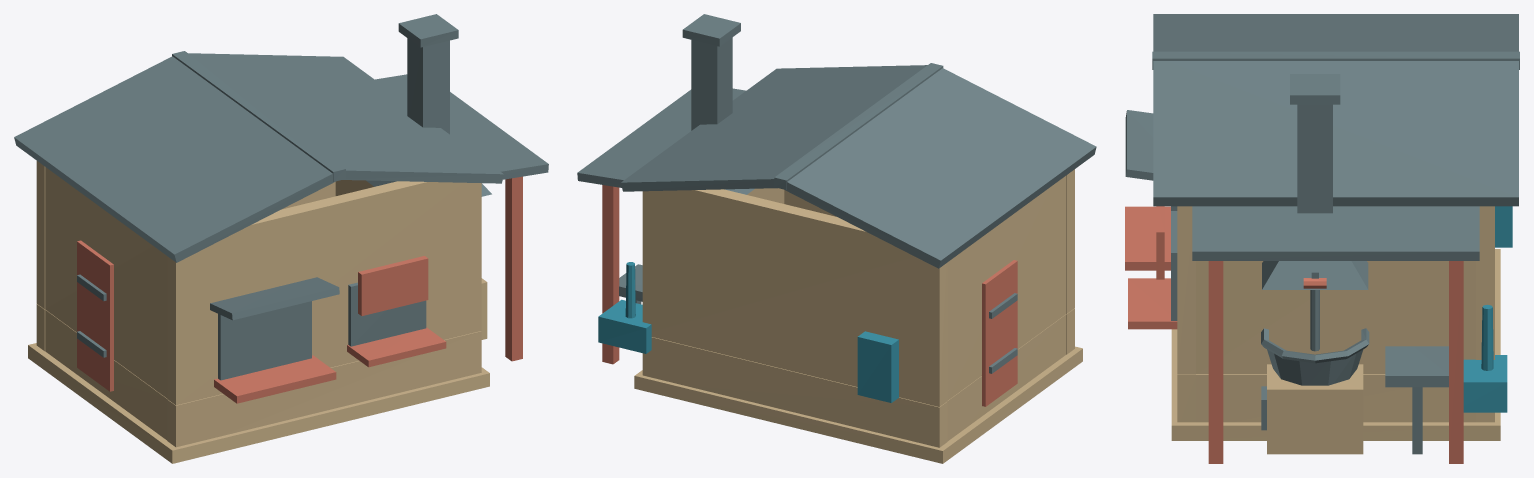
File: preserve-kitchen.source.glb
3 renders of one model, left to right at view 1: azimuth 30°, elevation 25°; view 2: azimuth 150°, elevation 25°; view 3: azimuth 270°, elevation 25°, orthographic. The views are drawn at different scales.
Parts seen in each view (by area): view 1: preserve-kitchen-front-plaster-wall-mesh, preserve-kitchen-left-roof-panel-mesh, preserve-kitchen-right-roof-panel-mesh, preserve-kitchen-left-plaster-wall-mesh, preserve-kitchen-front-stone-plinth-mesh, preserve-kitchen-foundation-slab-mesh, preserve-kitchen-produce-receiving-recess-mesh, preserve-kitchen-timber-service-door-mesh, preserve-kitchen-work-bay-canopy-mesh, preserve-kitchen-left-stone-plinth-mesh, preserve-kitchen-narrow-ventilation-chimney-mesh, preserve-kitchen-work-bay-post-1.15-mesh (+8 smaller); view 2: preserve-kitchen-rear-plaster-wall-mesh, preserve-kitchen-left-roof-panel-mesh, preserve-kitchen-right-roof-panel-mesh, preserve-kitchen-left-plaster-wall-mesh, preserve-kitchen-rear-stone-plinth-mesh, preserve-kitchen-foundation-slab-mesh, preserve-kitchen-work-bay-canopy-mesh, preserve-kitchen-timber-service-door-mesh, preserve-kitchen-left-stone-plinth-mesh, preserve-kitchen-narrow-ventilation-chimney-mesh, preserve-kitchen-fuel-power-service-box-mesh, preserve-kitchen-work-bay-post--1.15-mesh (+5 smaller); view 3: preserve-kitchen-right-roof-panel-mesh, preserve-kitchen-right-plaster-wall-mesh, preserve-kitchen-work-bay-canopy-mesh, preserve-kitchen-left-roof-panel-mesh, preserve-kitchen-masonry-kettle-stove-mesh, preserve-kitchen-right-stone-plinth-mesh, preserve-kitchen-foundation-slab-mesh, preserve-kitchen-narrow-ventilation-chimney-mesh, preserve-kitchen-roof-ridge-mesh, preserve-kitchen-work-bay-post-1.15-mesh, preserve-kitchen-front-plaster-wall-mesh, preserve-kitchen-work-bay-post--1.15-mesh (+17 smaller).
Part boxes in pixels (x1,y1,x2,y2): preserve-kitchen-front-plaster-wall-mesh: (167, 181, 481, 405); preserve-kitchen-left-roof-panel-mesh: (14, 56, 335, 262); preserve-kitchen-right-roof-panel-mesh: (188, 53, 503, 183); preserve-kitchen-left-plaster-wall-mesh: (45, 167, 167, 398); preserve-kitchen-front-stone-plinth-mesh: (167, 331, 481, 447); preserve-kitchen-foundation-slab-mesh: (28, 343, 489, 463); preserve-kitchen-produce-receiving-recess-mesh: (218, 301, 311, 380); preserve-kitchen-timber-service-door-mesh: (77, 240, 113, 391); preserve-kitchen-work-bay-canopy-mesh: (375, 74, 548, 179); preserve-kitchen-left-stone-plinth-mesh: (45, 310, 167, 440); preserve-kitchen-narrow-ventilation-chimney-mesh: (407, 38, 449, 134); preserve-kitchen-work-bay-post-1.15-mesh: (505, 176, 522, 361); preserve-kitchen-rear-plaster-wall-mesh: (642, 189, 947, 406); preserve-kitchen-left-roof-panel-mesh: (784, 68, 1096, 268); preserve-kitchen-right-roof-panel-mesh: (621, 65, 927, 191); preserve-kitchen-left-plaster-wall-mesh: (947, 176, 1066, 400); preserve-kitchen-rear-stone-plinth-mesh: (642, 337, 947, 447); preserve-kitchen-foundation-slab-mesh: (634, 346, 1082, 463); preserve-kitchen-work-bay-canopy-mesh: (577, 88, 745, 187); preserve-kitchen-timber-service-door-mesh: (982, 260, 1017, 406); preserve-kitchen-left-stone-plinth-mesh: (947, 314, 1066, 440); preserve-kitchen-narrow-ventilation-chimney-mesh: (691, 37, 732, 130); preserve-kitchen-fuel-power-service-box-mesh: (857, 331, 898, 402); preserve-kitchen-work-bay-post--1.15-mesh: (602, 185, 619, 364); preserve-kitchen-right-roof-panel-mesh: (1153, 61, 1518, 206); preserve-kitchen-right-plaster-wall-mesh: (1196, 261, 1475, 374); preserve-kitchen-work-bay-canopy-mesh: (1192, 206, 1479, 260); preserve-kitchen-left-roof-panel-mesh: (1153, 14, 1518, 51); preserve-kitchen-masonry-kettle-stove-mesh: (1267, 364, 1363, 454); preserve-kitchen-right-stone-plinth-mesh: (1196, 374, 1475, 422); preserve-kitchen-foundation-slab-mesh: (1171, 249, 1500, 440); preserve-kitchen-narrow-ventilation-chimney-mesh: (1297, 104, 1332, 213); preserve-kitchen-roof-ridge-mesh: (1152, 51, 1519, 69); preserve-kitchen-work-bay-post-1.15-mesh: (1208, 261, 1223, 463); preserve-kitchen-front-plaster-wall-mesh: (1177, 206, 1195, 374); preserve-kitchen-work-bay-post--1.15-mesh: (1449, 261, 1463, 463).
Bounding box in the file's own units: 4.93 × 3.77 × 3.78.
